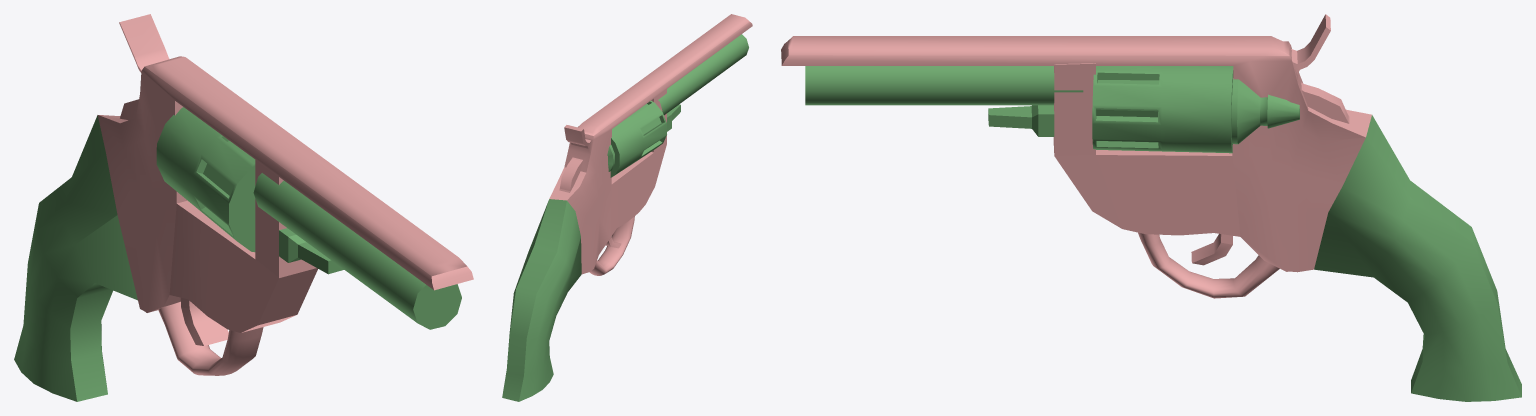
Rendered from gun-14055.fbx.
3 views of the same model, side by side, from view 1: azimuth 30°, elevation 25°; view 2: azimuth 150°, elevation 25°; view 3: azimuth 270°, elevation 25° (orthographic). The views are drawn at different scales.
Parts seen in each view (by area): view 1: pCube1, pCylinder2, pCylinder1, pTorus1; view 2: pCube1, pCylinder1, pCylinder2, pTorus1; view 3: pCube1, pCylinder1, pCylinder2, pTorus1.
Boxes of the visible parts, x1,y1,x2,y2 form: pCube1: [14, 14, 473, 401]; pCylinder2: [253, 173, 461, 329]; pCylinder1: [156, 107, 255, 252]; pTorus1: [158, 301, 263, 375]; pCube1: [502, 14, 752, 401]; pCylinder1: [607, 100, 666, 177]; pCylinder2: [658, 34, 748, 115]; pTorus1: [589, 216, 634, 275]; pCube1: [781, 14, 1521, 401]; pCylinder1: [1092, 66, 1299, 153]; pCylinder2: [805, 66, 1083, 105]; pTorus1: [1138, 232, 1279, 298].
Bounding box in the file's own units: 17.89 × 72.62 × 133.
